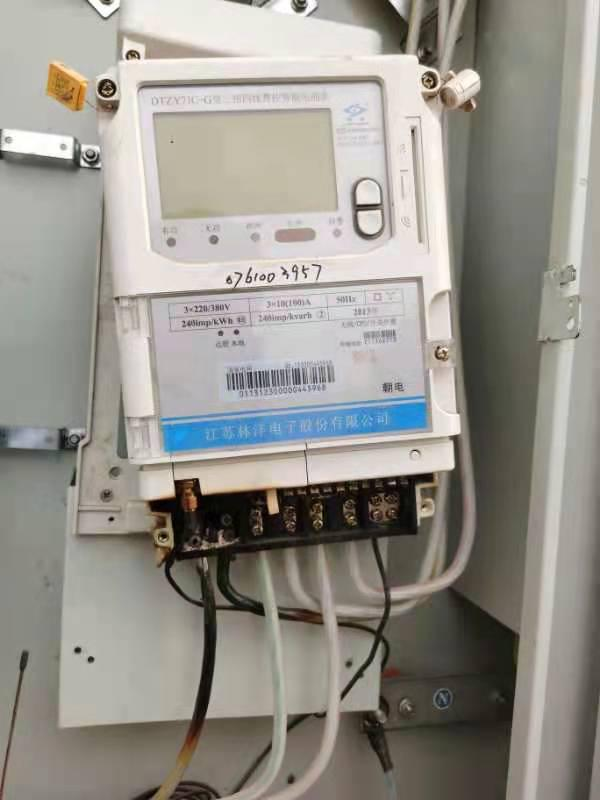digital: (99, 54, 459, 464)
